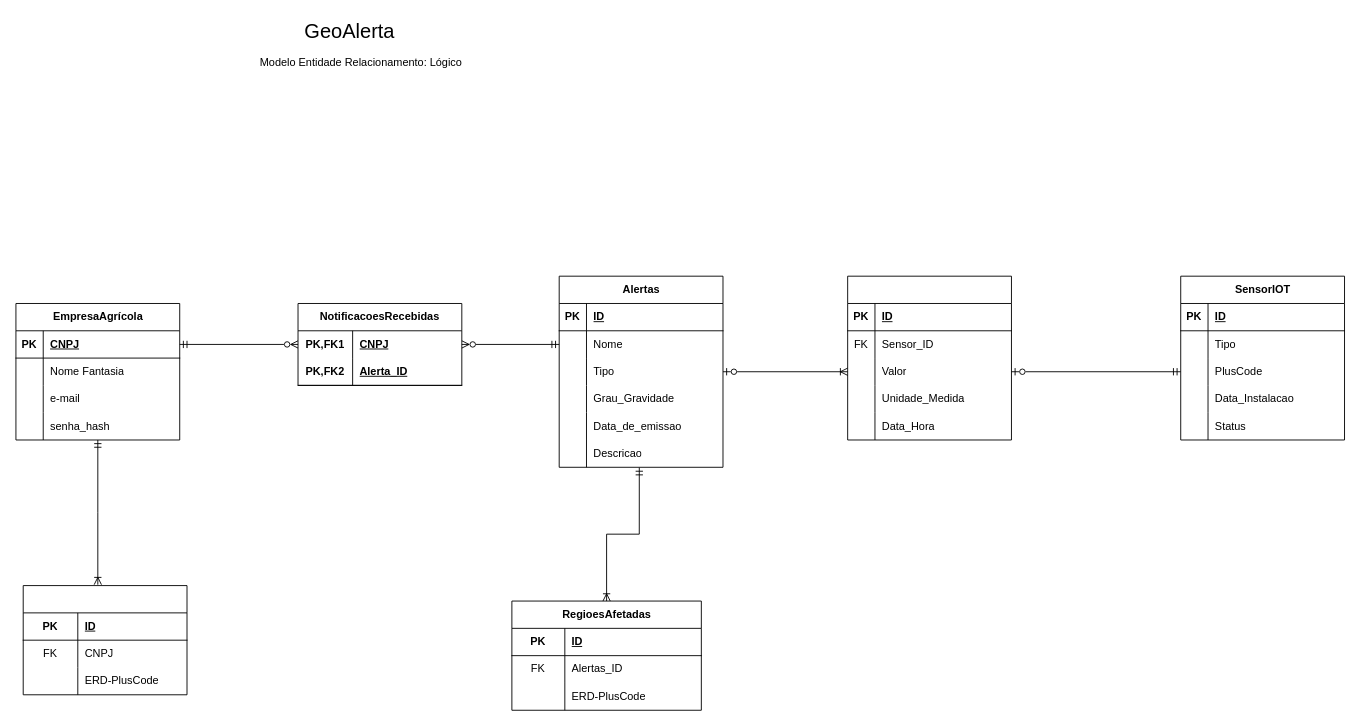
This 1360x726 diagram has some shape labels left out. Each missing label, with the box of its shape:
Enderecos: (22, 585, 187, 695)
LeituraSensor: (847, 275, 1011, 440)
